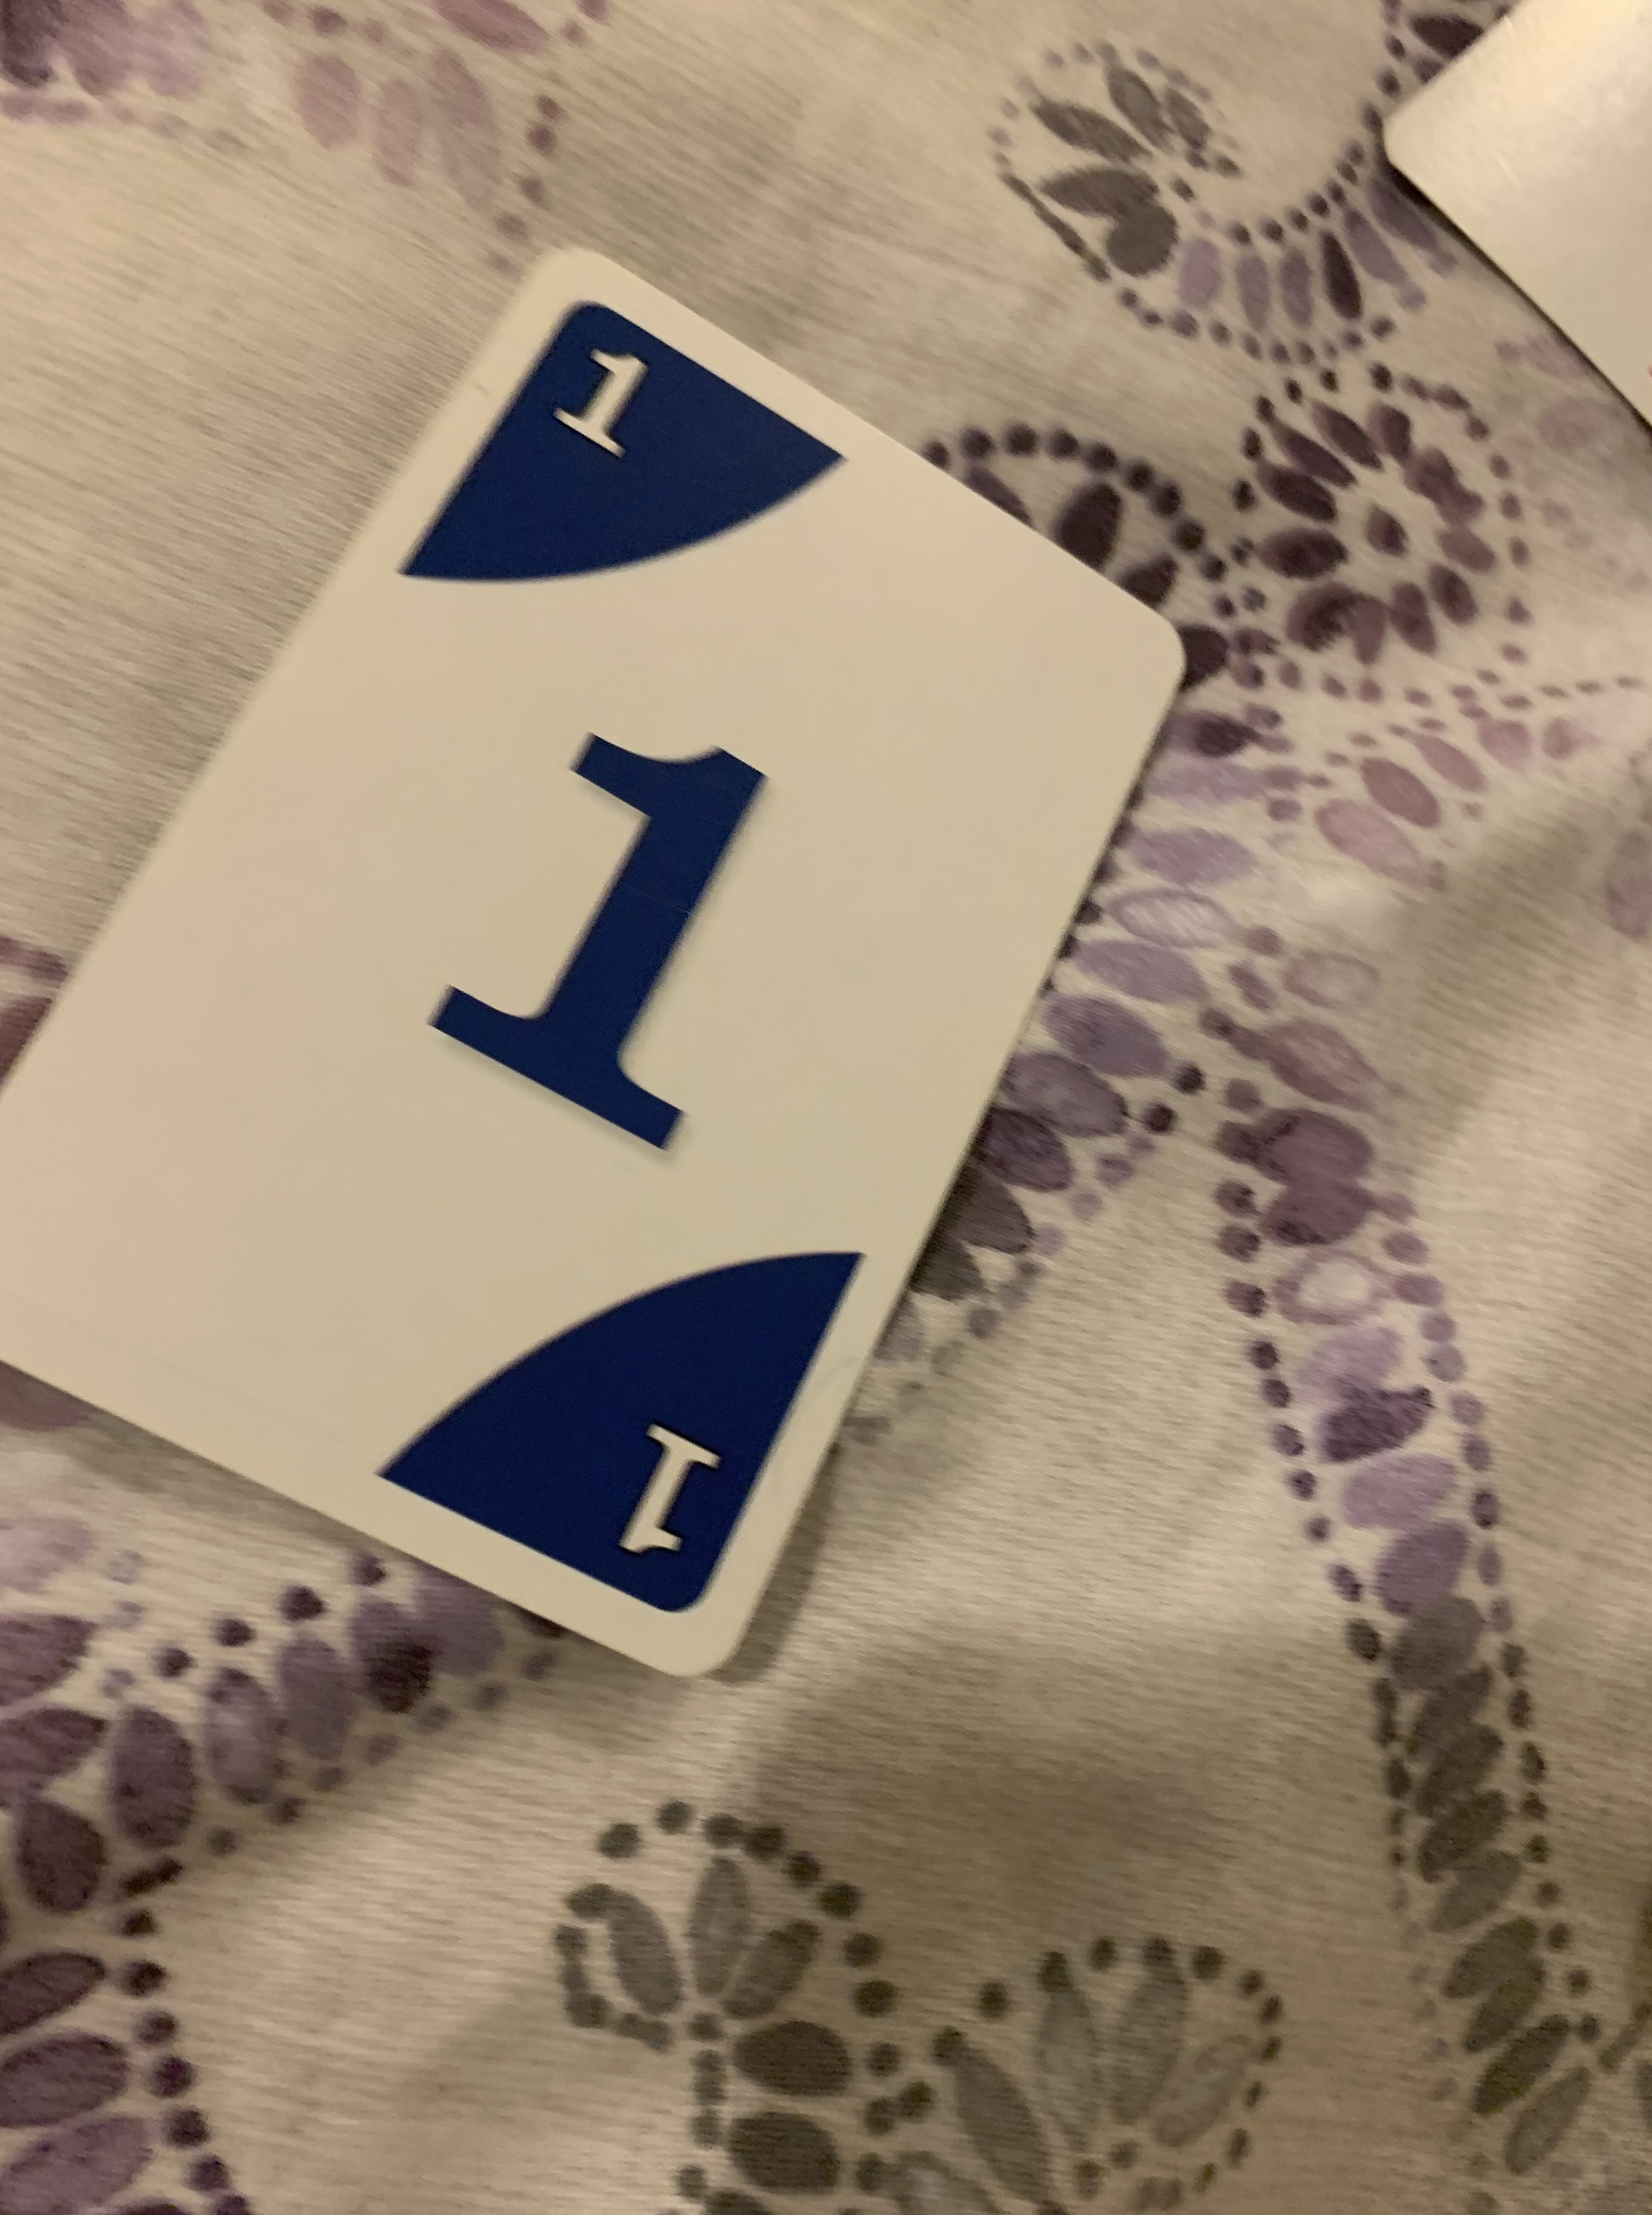one: (0, 240, 1192, 1686)
